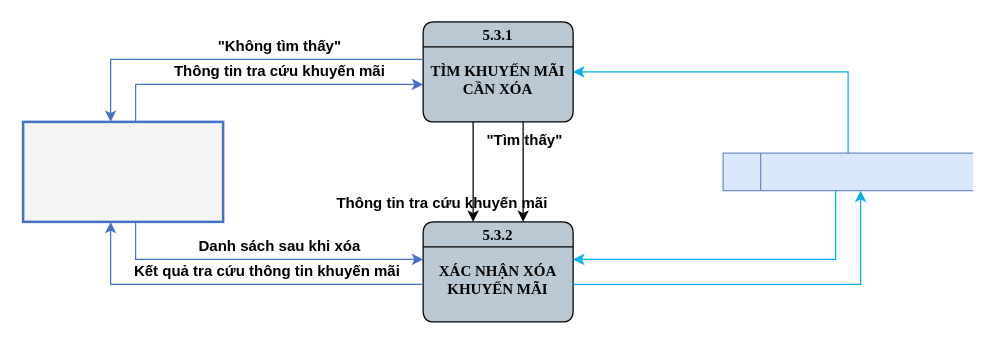
Image size: 995x344. Some labels were removed from this diagram. The box of each missing label's shape, as (x1, y1, x2, y2) in pixels:
10 Danh sách ưu đãi, khuyến mãi: (722, 152, 973, 191)
NHÂN VIÊN QUẢN LÝ: (21, 120, 224, 222)
